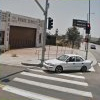crosswalk: (1, 67, 94, 100)
